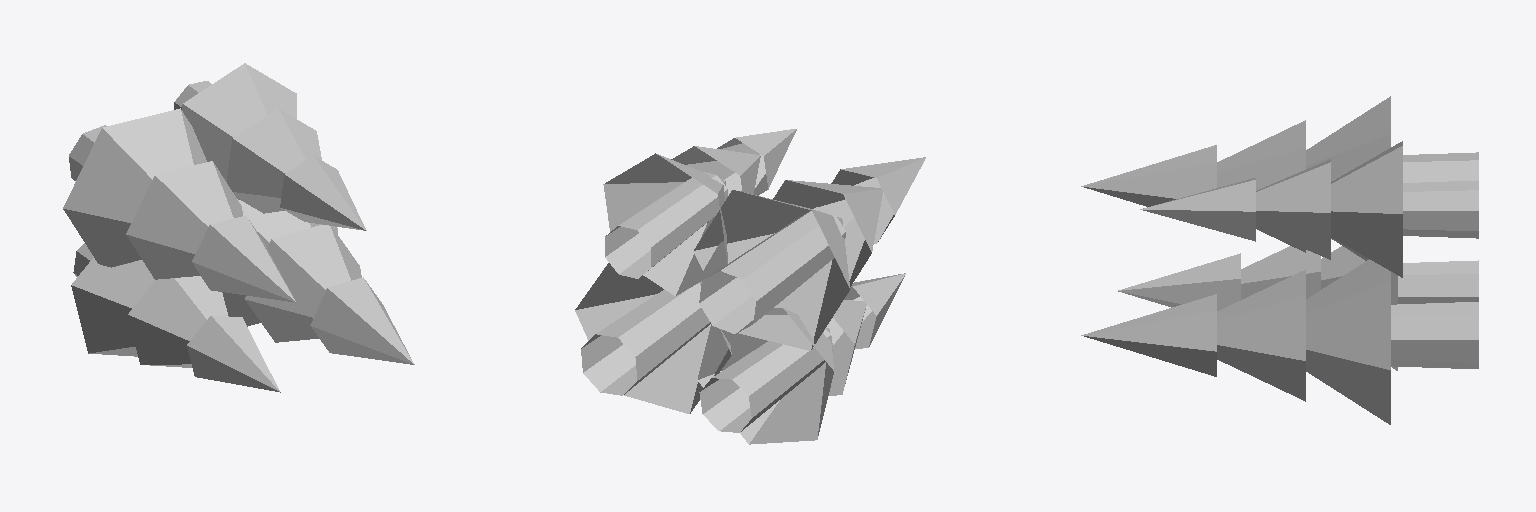
The model's file is encounter_forest.obj.
3 renders of one model, left to right at view 1: azimuth 30°, elevation 25°; view 2: azimuth 150°, elevation 25°; view 3: azimuth 270°, elevation 25°, orthographic.
Visible parts, largest first — view 1: Cylinder.015, Cylinder.017, Cylinder.014, Cylinder.016; view 2: Cylinder.015, Cylinder.017, Cylinder.014, Cylinder.016; view 3: Cylinder.016, Cylinder.017, Cylinder.015, Cylinder.014.
Part boxes in pixels (left/top/right/bottom): Cylinder.015: left=63, top=108, right=295, bottom=302; Cylinder.017: left=174, top=63, right=366, bottom=230; Cylinder.014: left=71, top=243, right=280, bottom=392; Cylinder.016: left=222, top=199, right=414, bottom=364; Cylinder.015: left=693, top=157, right=925, bottom=350; Cylinder.017: left=603, top=129, right=796, bottom=295; Cylinder.014: left=697, top=273, right=905, bottom=444; Cylinder.016: left=575, top=263, right=731, bottom=413; Cylinder.016: left=1081, top=259, right=1478, bottom=424; Cylinder.017: left=1140, top=141, right=1478, bottom=277; Cylinder.015: left=1081, top=96, right=1478, bottom=260; Cylinder.014: left=1118, top=246, right=1478, bottom=370.
Bounding box in the file's own units: 1.47 × 1.38 × 1.84.